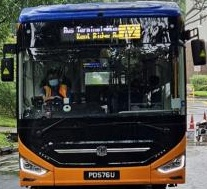bus: (117, 24, 140, 39)
